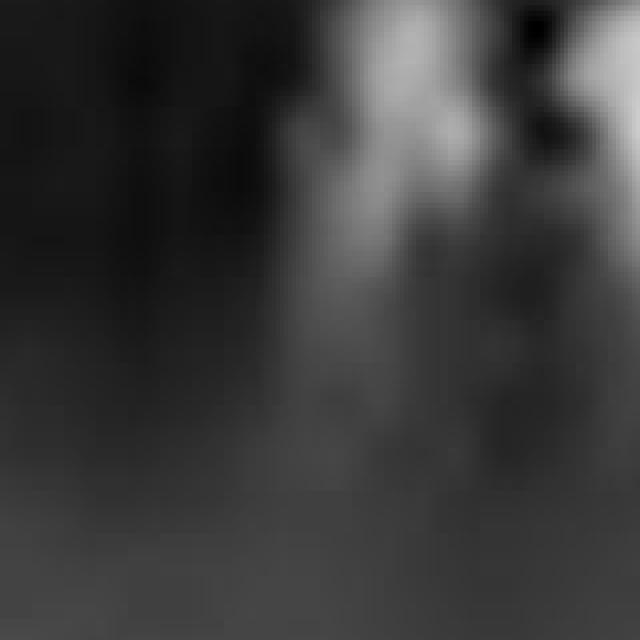person: (281, 1, 477, 369), (561, 1, 640, 428)
